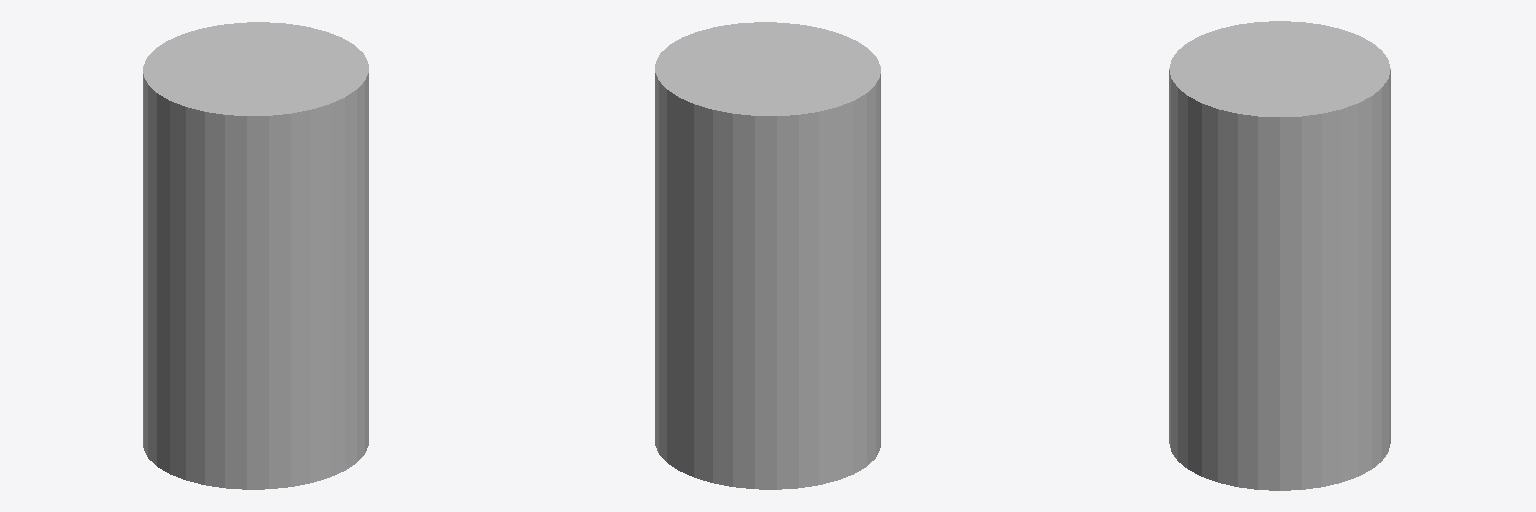
Rendered from queencircle.obj.
The picture shows the model from 3 angles: view 1: azimuth 30°, elevation 25°; view 2: azimuth 150°, elevation 25°; view 3: azimuth 270°, elevation 25°; orthographic projection.
Visible parts, largest first — view 1: Cylinder_Cylinder.003; view 2: Cylinder_Cylinder.003; view 3: Cylinder_Cylinder.003.
Part boxes in pixels (x1,y1,x2,y2): Cylinder_Cylinder.003: (143, 22, 368, 489); Cylinder_Cylinder.003: (655, 22, 880, 489); Cylinder_Cylinder.003: (1169, 21, 1390, 490).
Bounding box in the file's own units: 2 × 3.61 × 1.94.